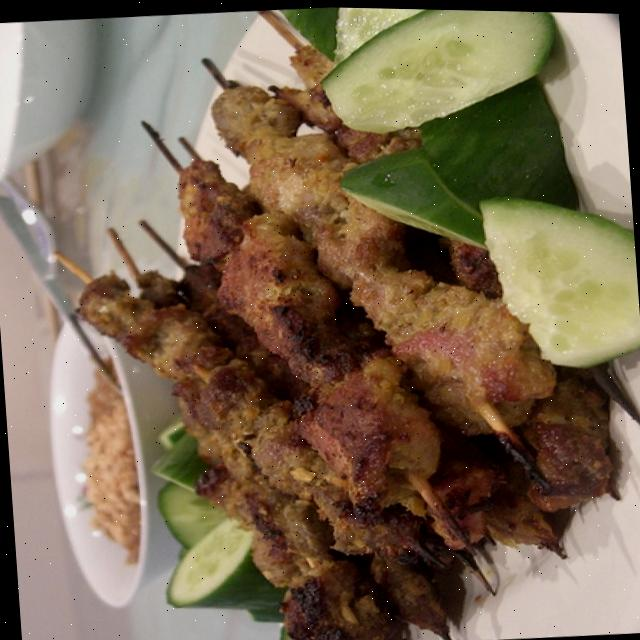牛肉菜式: (4, 0, 640, 640)
